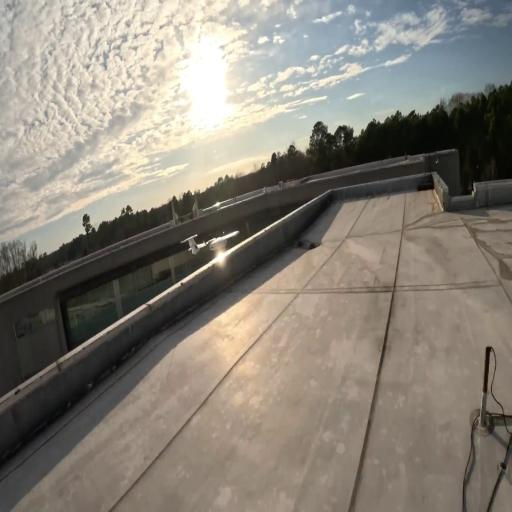uav: (181, 219, 246, 264)
